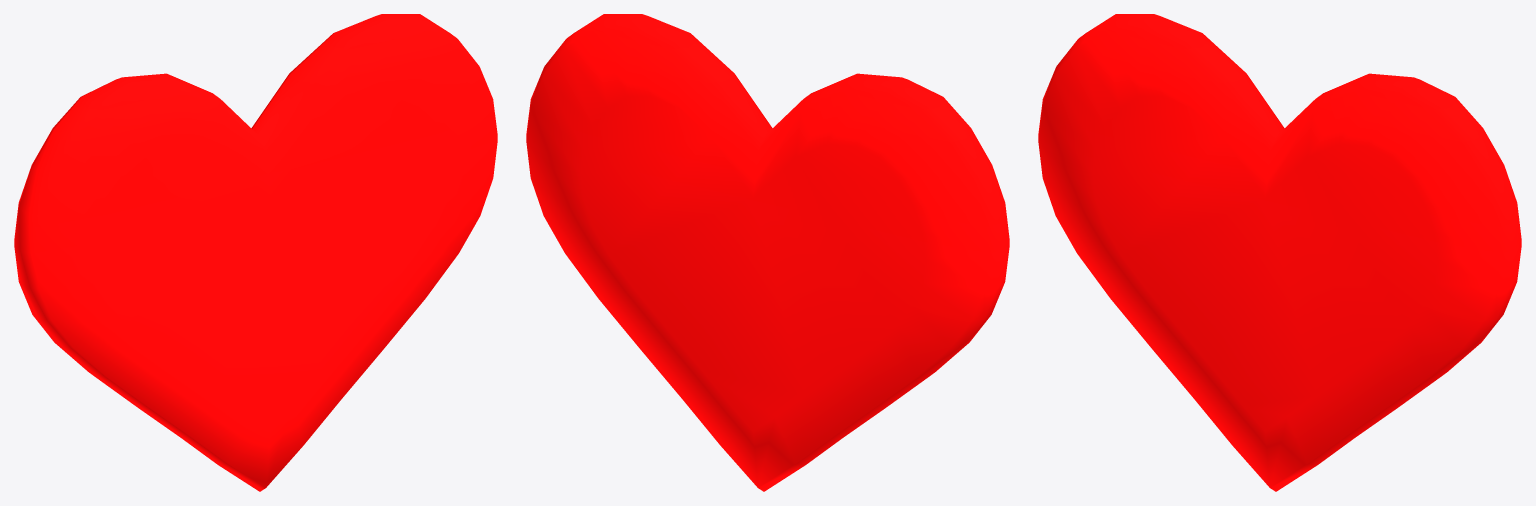
3 views of the same model, side by side, from view 1: azimuth 30°, elevation 25°; view 2: azimuth 150°, elevation 25°; view 3: azimuth 330°, elevation 25° (orthographic).
Visible parts, largest first — view 1: IndicatorHeartRed; view 2: IndicatorHeartRed; view 3: IndicatorHeartRed.
Part boxes in pixels (x1=…): IndicatorHeartRed: x1=14, y1=14, x2=497, y2=491; IndicatorHeartRed: x1=526, y1=14, x2=1009, y2=491; IndicatorHeartRed: x1=1038, y1=14, x2=1521, y2=491.
Size of the model in its own units: 0.5424 by 0.4801 by 0.0583.
1 material, 1 textured.
